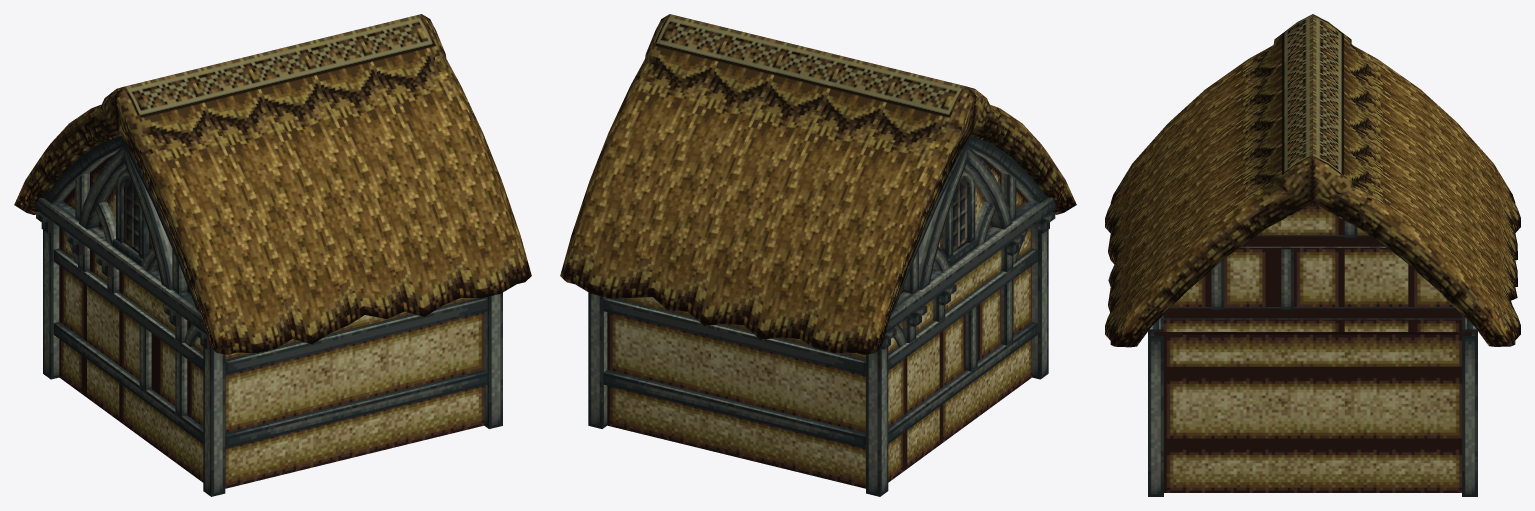
Rendered from EnvBdgMD_Forest_A_Outdoor_House_G.FBX.
3 renders of one model, left to right at view 1: azimuth 30°, elevation 25°; view 2: azimuth 150°, elevation 25°; view 3: azimuth 270°, elevation 25°, orthographic. The views are drawn at different scales.
Parts seen in each view (by area): view 1: EnvBdgMD_Forest_A_Outdoor_House_G; view 2: EnvBdgMD_Forest_A_Outdoor_House_G; view 3: EnvBdgMD_Forest_A_Outdoor_House_G.
Part boxes in pixels (bbox=[...]): EnvBdgMD_Forest_A_Outdoor_House_G: bbox=[14, 14, 531, 496]; EnvBdgMD_Forest_A_Outdoor_House_G: bbox=[560, 14, 1076, 496]; EnvBdgMD_Forest_A_Outdoor_House_G: bbox=[1105, 14, 1520, 496].
Size of the model in its own units: 563 by 595 by 655.
